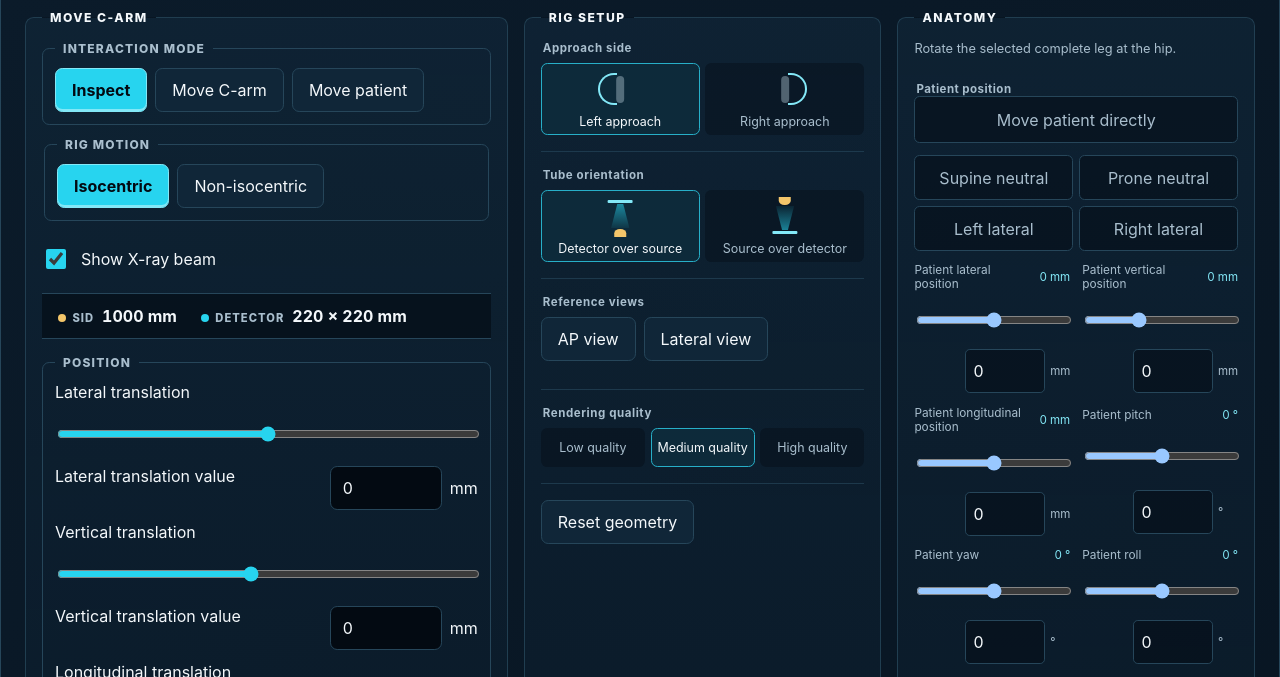
Test: CArmControls › applies corrected AP and lateral reference presets
Click the button "AP view".
click(588, 339)  # box [541,317,636,361]
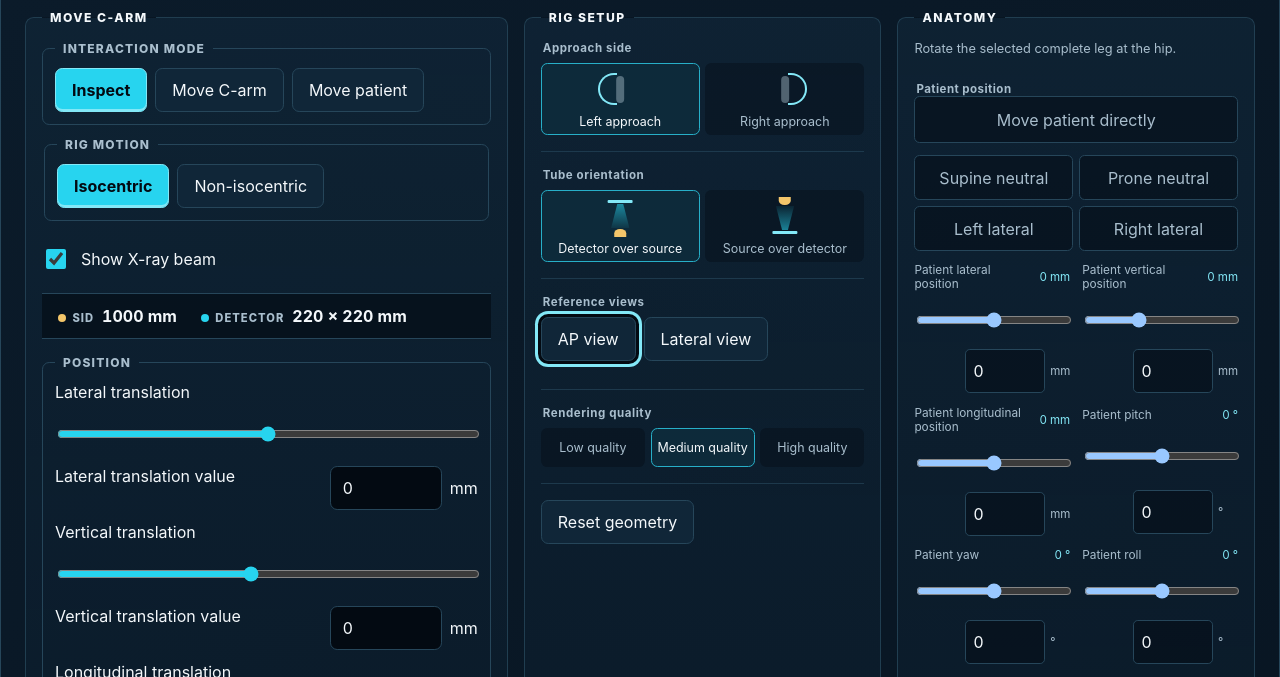
Click the button "Lateral view".
click(706, 339)  # box [644,317,768,361]
(page scrolled)
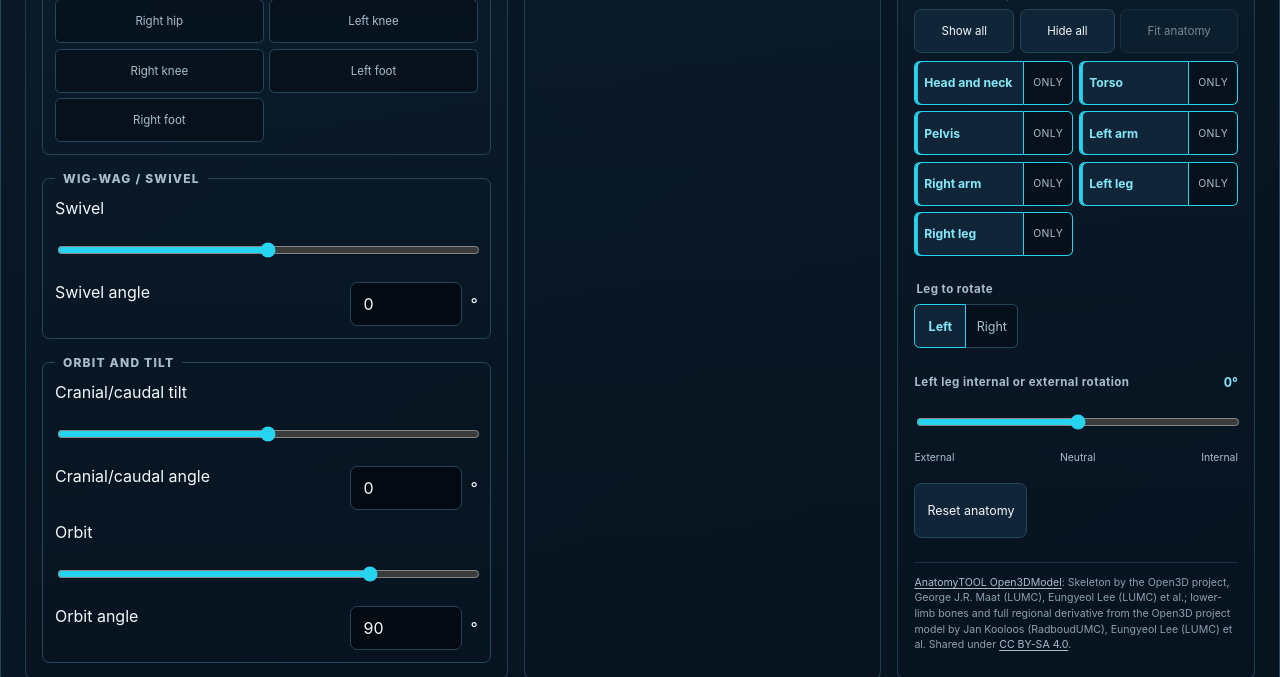
expect the number field labelled "Orbit angle" holds "90": met, box [350,606,462,650]
